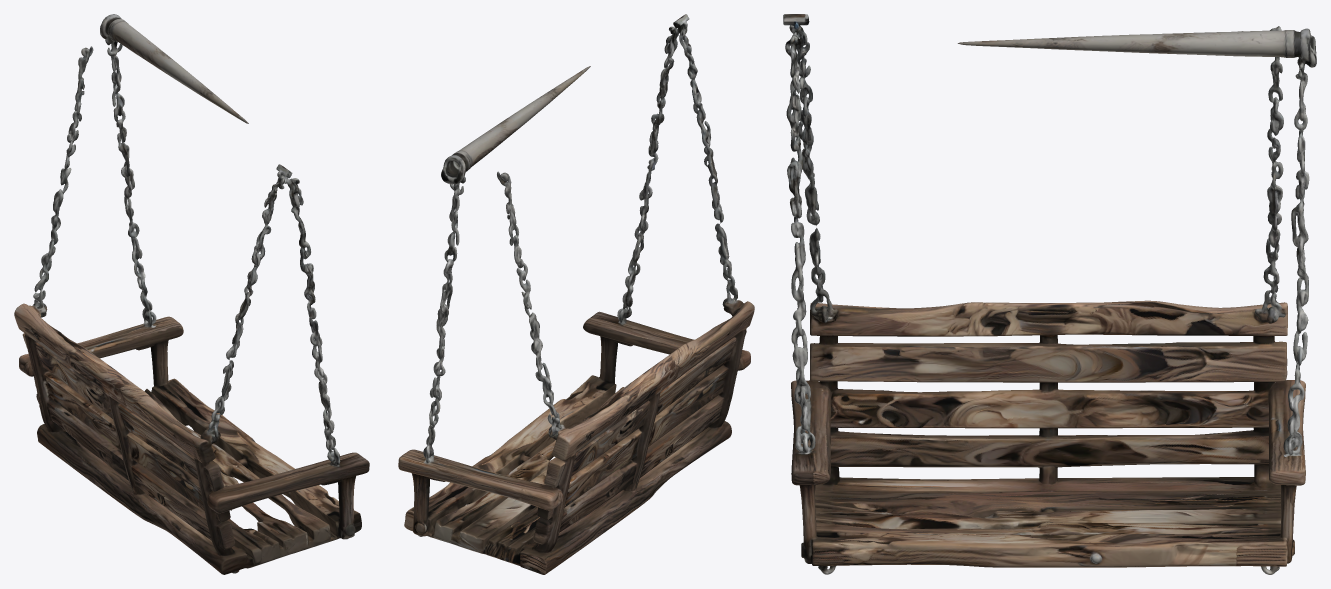
The model's file is prop-swing-bench.glb.
3 views of the same model, side by side, from view 1: azimuth 30°, elevation 25°; view 2: azimuth 150°, elevation 25°; view 3: azimuth 270°, elevation 25° (orthographic). The views are drawn at different scales.
Visible parts, largest first — view 1: tripo_node_f76a5483-74db-4763-923e-d88afbdda7a4; view 2: tripo_node_f76a5483-74db-4763-923e-d88afbdda7a4; view 3: tripo_node_f76a5483-74db-4763-923e-d88afbdda7a4.
Part boxes in pixels (box(x1,y1,x2,y2)): tripo_node_f76a5483-74db-4763-923e-d88afbdda7a4: box(14, 14, 369, 574); tripo_node_f76a5483-74db-4763-923e-d88afbdda7a4: box(398, 14, 754, 574); tripo_node_f76a5483-74db-4763-923e-d88afbdda7a4: box(783, 14, 1316, 574).
Size of the model in its own units: 1.08 by 2.5 by 2.3.
Materials: 1 (1 with a texture image).
